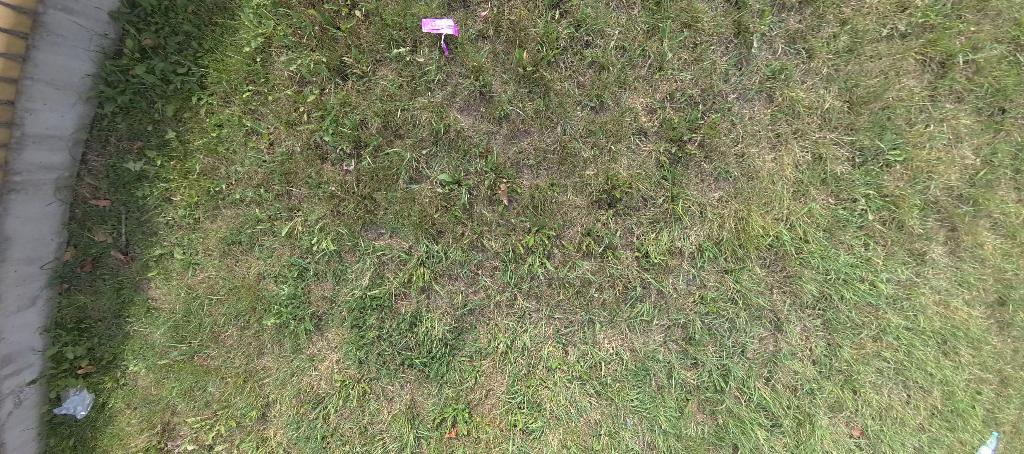garbage: (420, 13, 461, 58), (52, 387, 97, 423)
